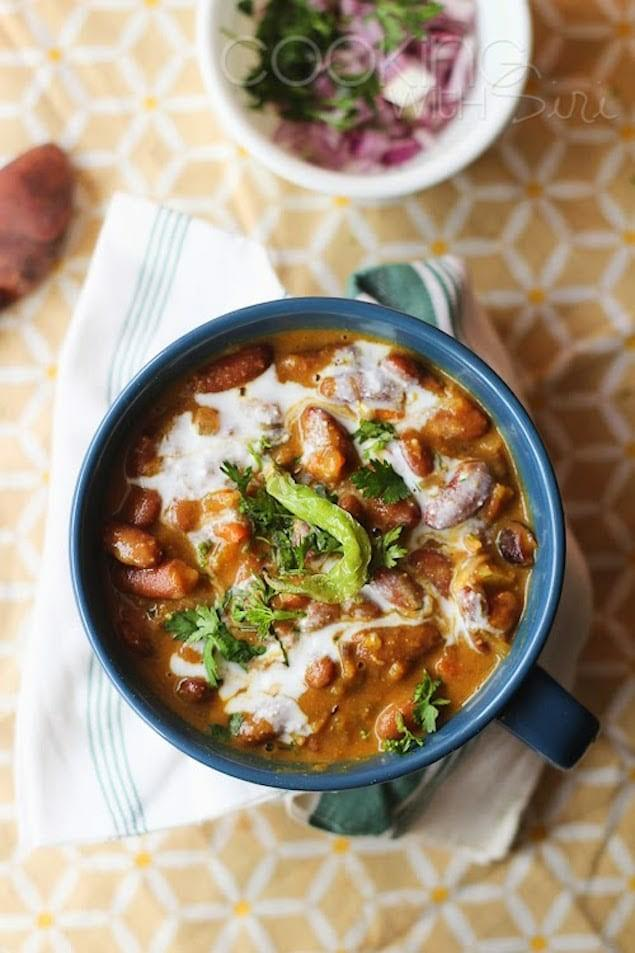RajmaCurry: (83, 310, 540, 772)
